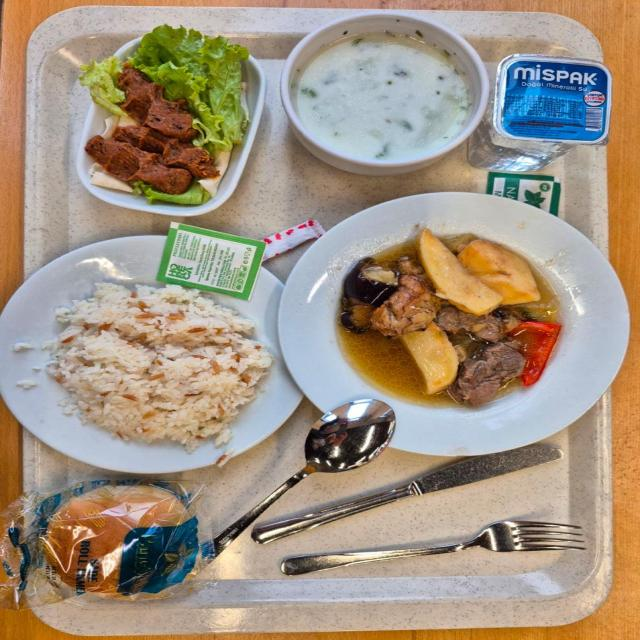ana_yemek: (274, 194, 627, 453), (0, 237, 300, 466)
corba: (279, 13, 486, 174)
yan_yemek: (71, 36, 263, 214)
